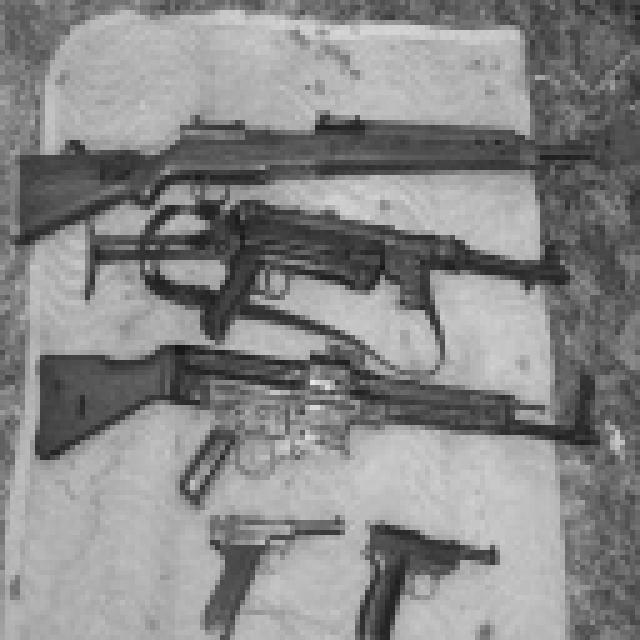Rifle: (0, 270, 625, 505), (0, 61, 612, 262), (54, 161, 587, 361), (165, 475, 355, 640), (320, 505, 505, 640)
